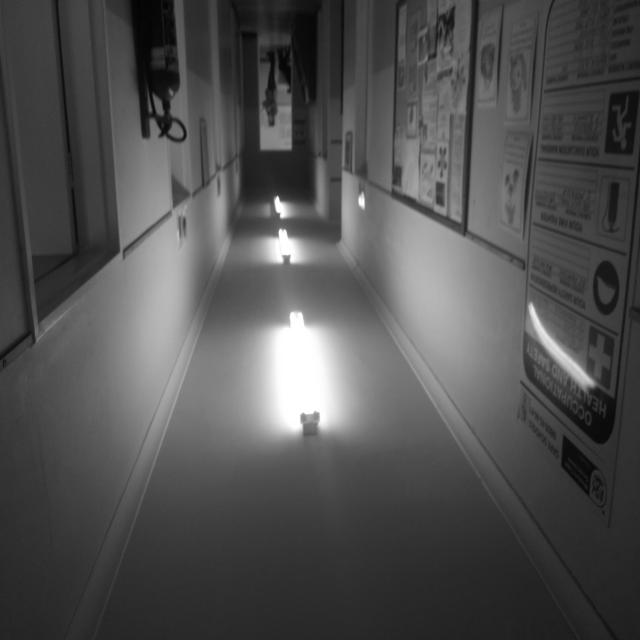light: (289, 309, 325, 432), (278, 227, 296, 264), (272, 193, 286, 220)
